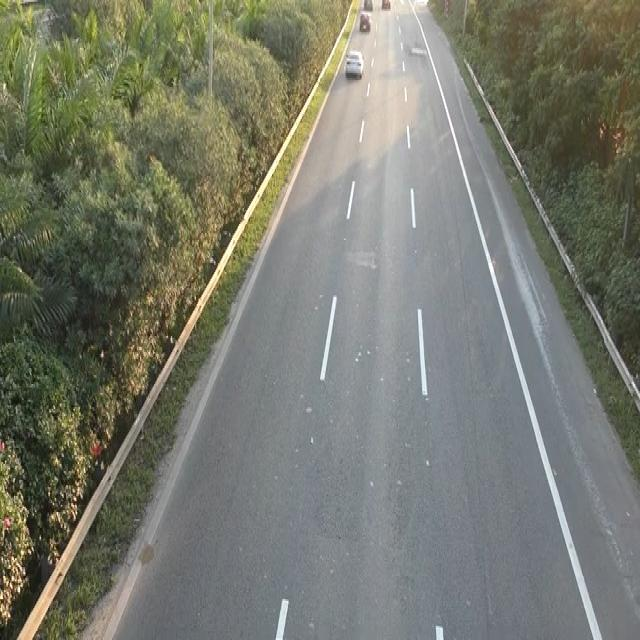bus: (342, 44, 367, 86), (358, 11, 371, 32)
